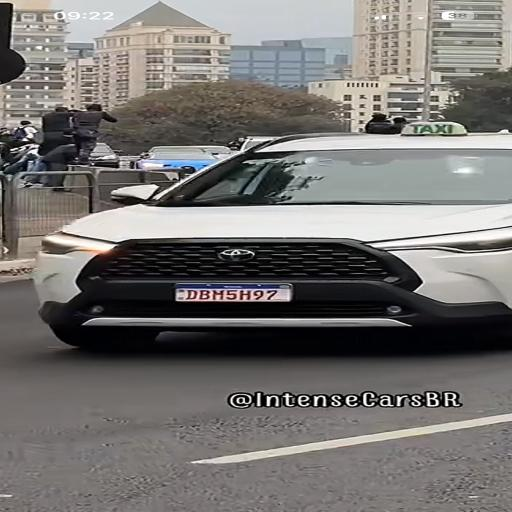detec-o-placas: (153, 268, 350, 332)
